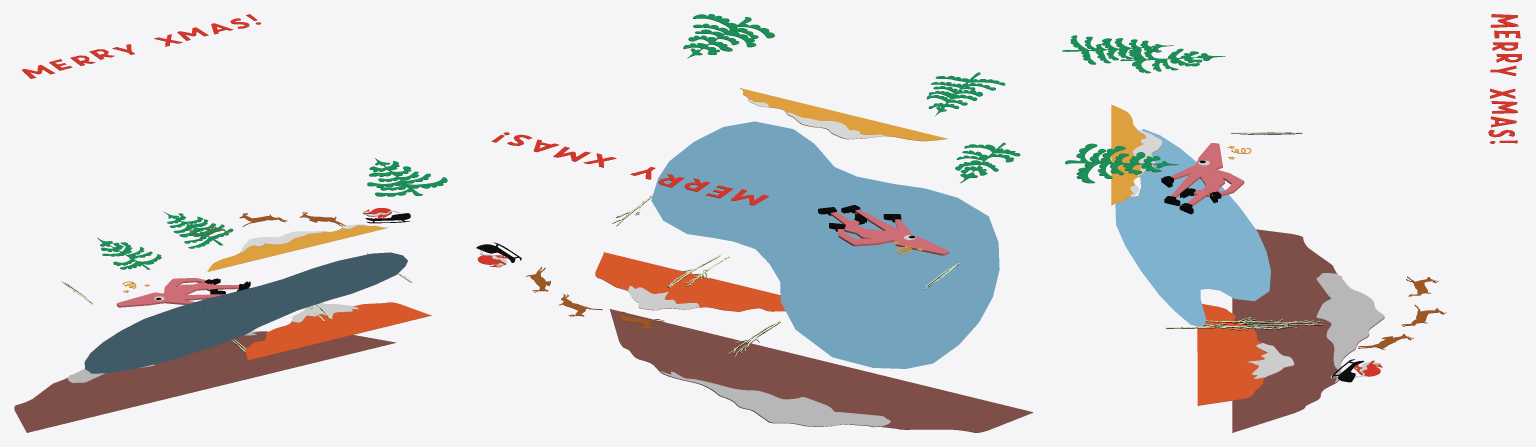
Rendered from asset.gltf.
3 renders of one model, left to right at view 1: azimuth 30°, elevation 25°; view 2: azimuth 150°, elevation 25°; view 3: azimuth 270°, elevation 25°, orthographic. The views are drawn at different scales.
Parts seen in each view (by area): view 1: lake, snowPeakBIG, snowPeakMED, snowPeakSML, octopus, tree3, tree2, tree1, snowPeakMED1, snowPeakSML1; view 2: lake, snowPeakBIG, snowPeakMED, snowPeakBIG1, snowPeakSML, octopus, tree3, tree2, tree1, snowPeakMED1, snowPeakSML1; view 3: lake, snowPeakBIG, snowPeakMED, snowPeakBIG1, snowPeakSML, octopus, tree3, tree2, tree1, snowPeakMED1, snowPeakSML1.
Boxes of the visible parts, box(x1,y1,x2,y2) form: lake: box(84, 252, 407, 373); snowPeakBIG: box(14, 331, 395, 432); snowPeakMED: box(245, 302, 431, 360); snowPeakSML: box(207, 225, 388, 271); octopus: box(116, 278, 238, 307); tree3: box(367, 158, 447, 196); tree2: box(164, 212, 233, 248); tree1: box(97, 237, 161, 269); snowPeakMED1: box(291, 303, 358, 322); snowPeakSML1: box(240, 231, 323, 252); lake: box(651, 121, 999, 368); snowPeakBIG: box(609, 309, 1033, 432); snowPeakMED: box(595, 252, 785, 311); snowPeakBIG1: box(660, 371, 890, 426); snowPeakSML: box(740, 88, 947, 141); octopus: box(830, 209, 948, 255); tree3: box(683, 14, 774, 58); tree2: box(926, 72, 1005, 115); tree1: box(955, 142, 1020, 183); snowPeakMED1: box(627, 286, 699, 310); snowPeakSML1: box(786, 112, 884, 139); lake: box(1115, 129, 1270, 326); snowPeakBIG: box(1232, 229, 1384, 432); snowPeakMED: box(1197, 304, 1292, 405); snowPeakBIG1: box(1316, 273, 1384, 382); snowPeakSML: box(1111, 104, 1162, 205); octopus: box(1170, 143, 1244, 206); tree3: box(1065, 143, 1179, 183); tree2: box(1062, 35, 1174, 64); tree1: box(1120, 48, 1225, 73); snowPeakMED1: box(1247, 343, 1294, 378); snowPeakSML1: box(1133, 129, 1162, 176).
Size of the model in its own units: 10.88 by 5.82 by 8.73.
